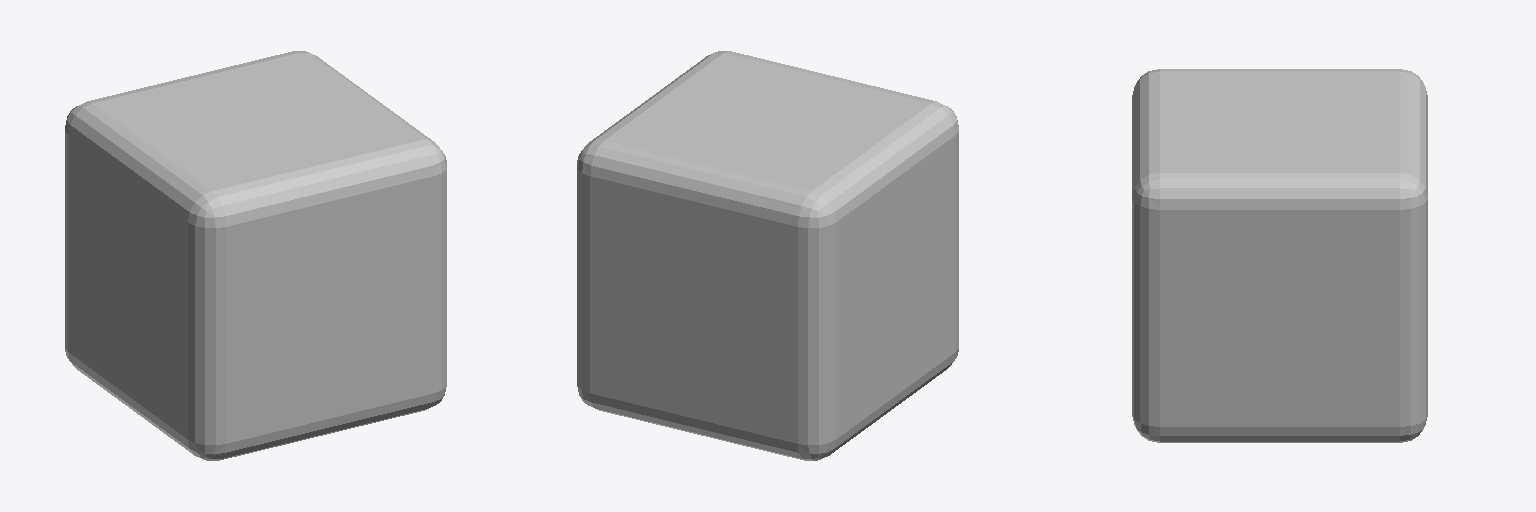
Rendered from Dice.obj.
3 renders of one model, left to right at view 1: azimuth 30°, elevation 25°; view 2: azimuth 150°, elevation 25°; view 3: azimuth 270°, elevation 25°, orthographic.
Parts seen in each view (by area): view 1: Dice_Cube.002; view 2: Dice_Cube.002; view 3: Dice_Cube.002.
Part boxes in pixels (x1,y1,x2,y2): Dice_Cube.002: (65, 51, 446, 460); Dice_Cube.002: (577, 51, 958, 460); Dice_Cube.002: (1132, 69, 1427, 442).
Size of the model in its own units: 1.28 by 1.28 by 1.28.